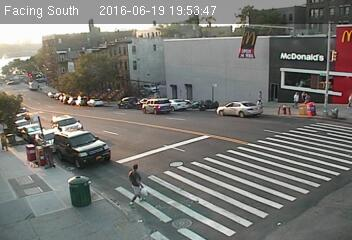neg: (61, 40, 96, 86), (122, 90, 145, 122), (234, 33, 257, 63), (17, 75, 39, 105), (99, 90, 118, 115), (40, 141, 56, 163)
pos: (121, 164, 154, 208), (288, 88, 301, 106), (255, 89, 267, 105), (303, 93, 312, 105)
